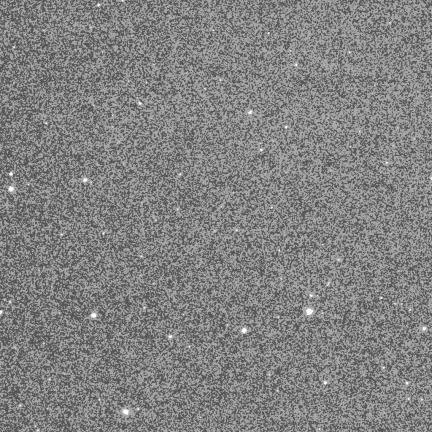blob: (306, 308, 313, 315), (242, 328, 247, 334), (91, 313, 96, 318), (123, 410, 128, 415), (9, 187, 14, 191), (83, 179, 88, 183), (9, 172, 13, 176), (406, 382, 409, 386), (423, 327, 426, 331), (139, 102, 142, 106), (260, 149, 264, 152), (169, 335, 172, 338), (324, 381, 327, 384), (249, 111, 252, 114), (0, 311, 2, 314)
